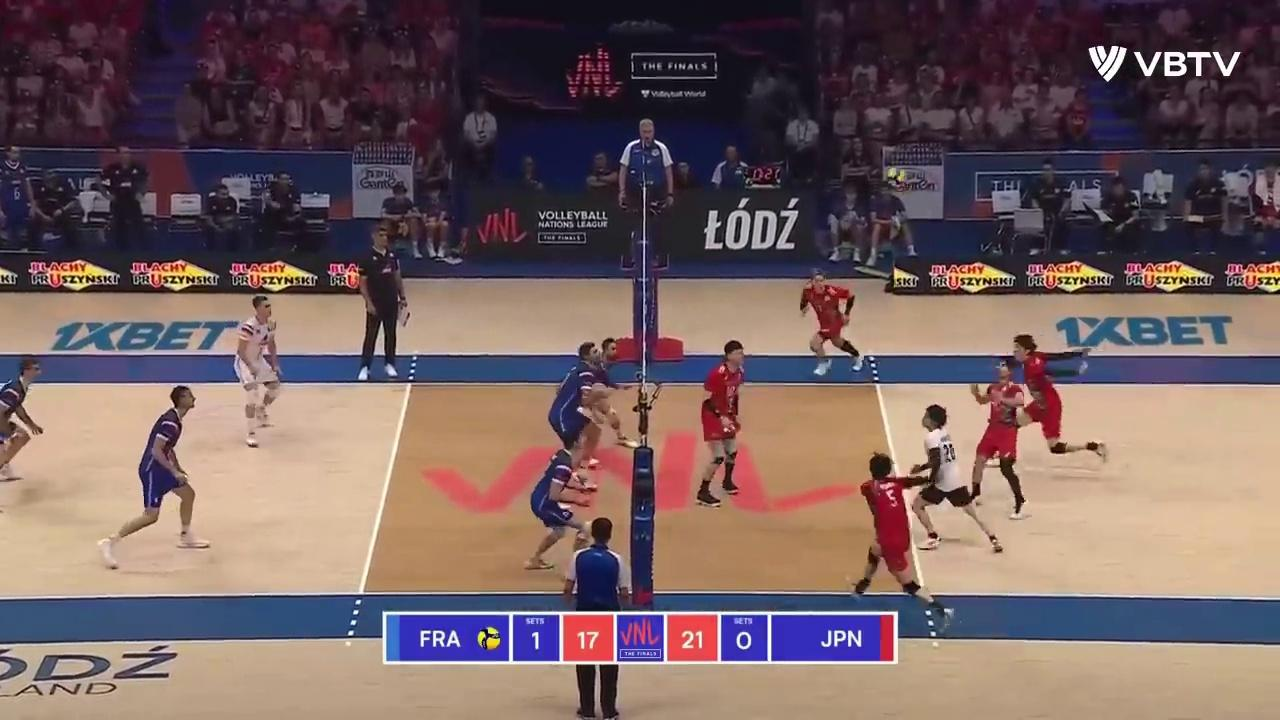ball: (887, 167, 905, 187)
